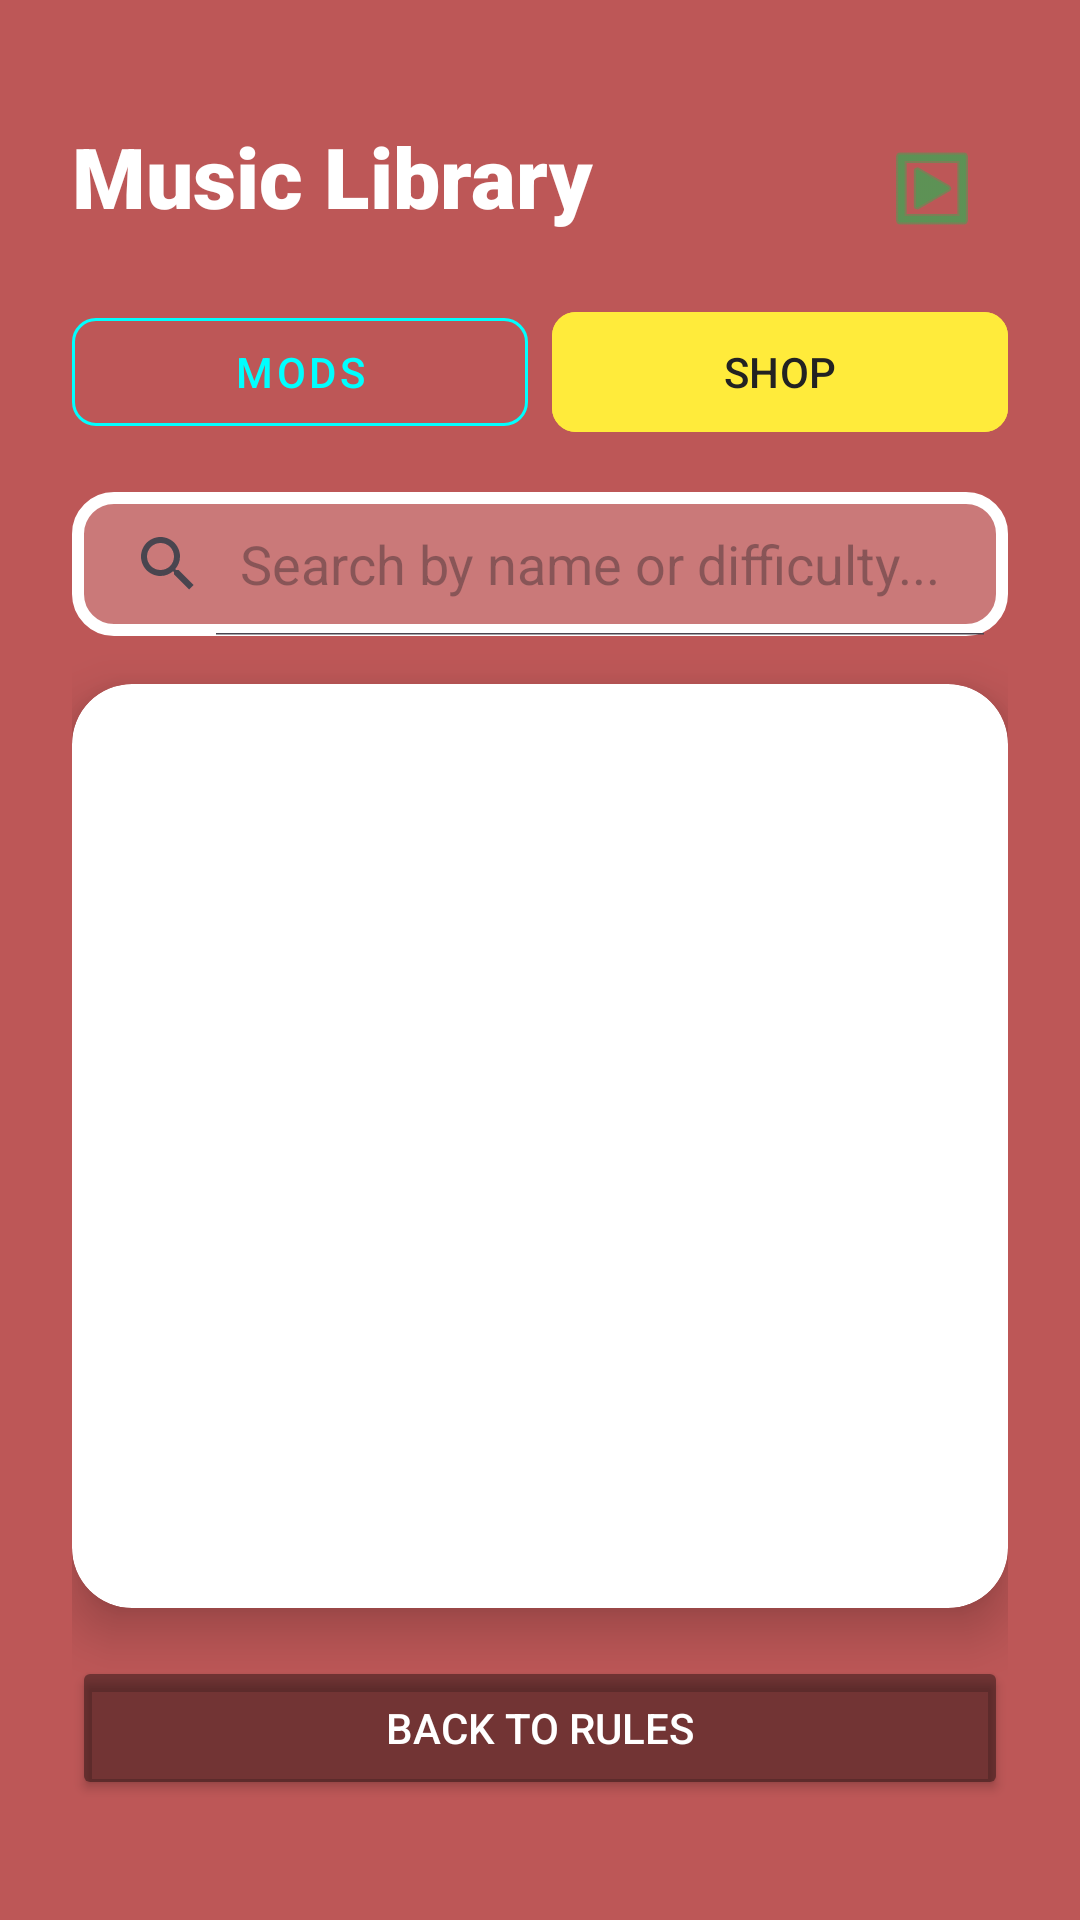

Named icons in this screenshot (1080 × 1920) and their centers, point (x, y):
slideshow: point (932, 188)
